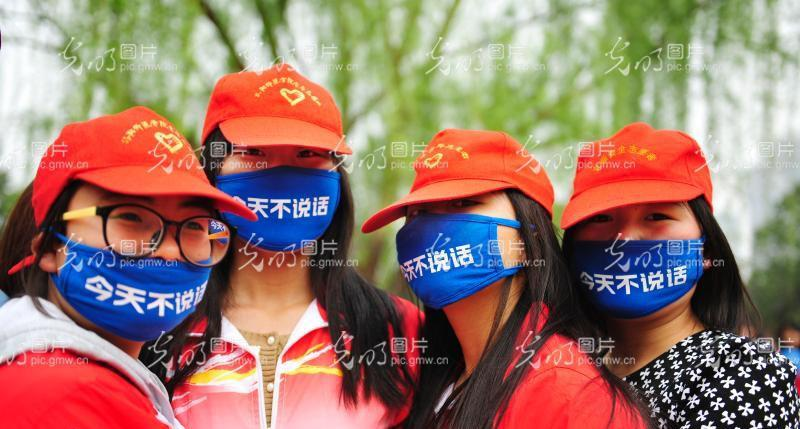OK: (395, 188, 514, 307), (228, 138, 342, 252)
WRONG: (59, 180, 221, 342), (569, 199, 690, 320)
